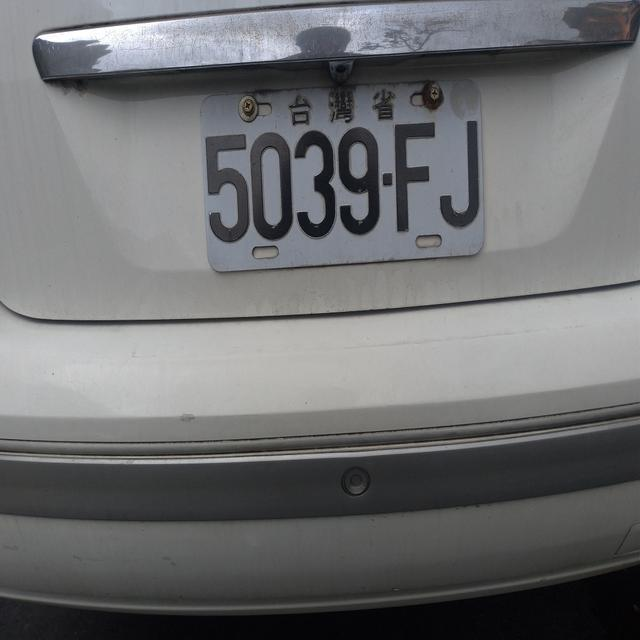plate: (195, 109, 493, 253)
